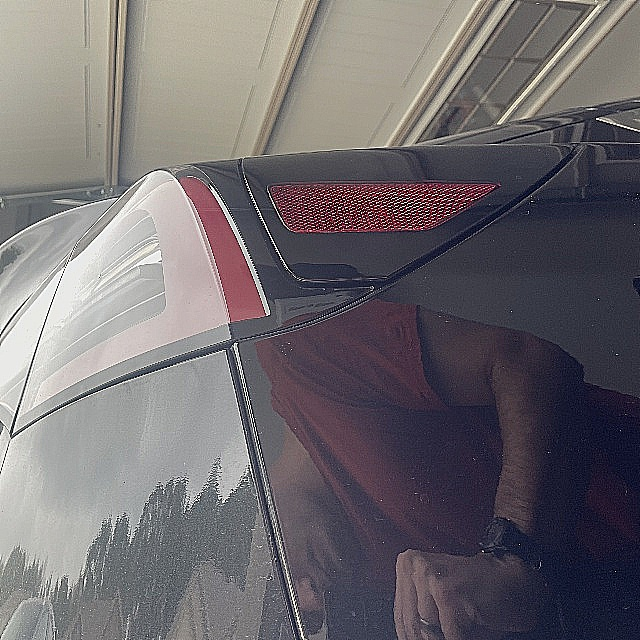reflector: (267, 181, 503, 235)
